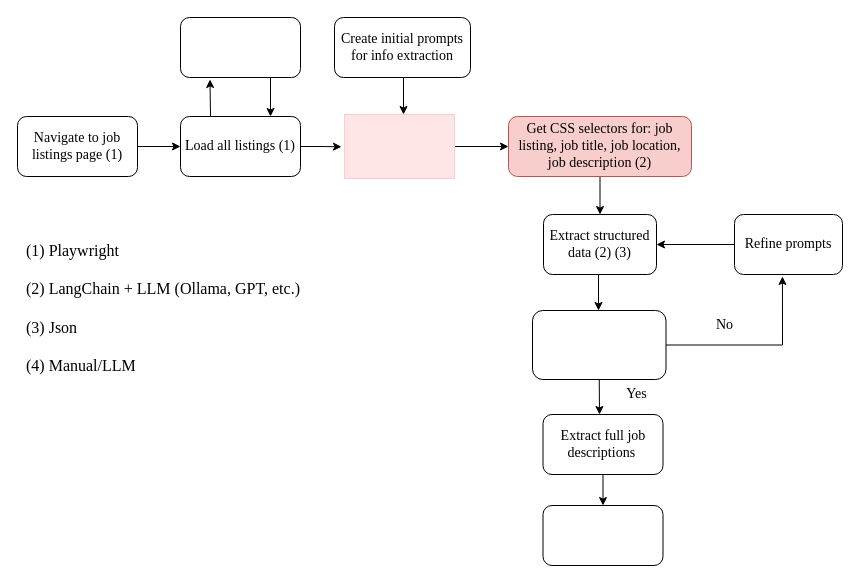
The diagram is 860 pixels wide and 583 high, and some of its shapes have lost their labels. Each missing label, with the centre of its shape:
Analize webpage structure (2): the point at 399,146
Build structured output table: the point at 602,535
Evaluate extraction accuracy. "Is data accurate?" (4): the point at 599,345
Retrieve all job cards (2): the point at 240,47
